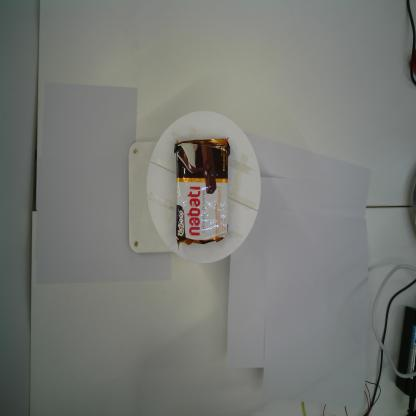Dessert: (173, 134, 231, 248)
